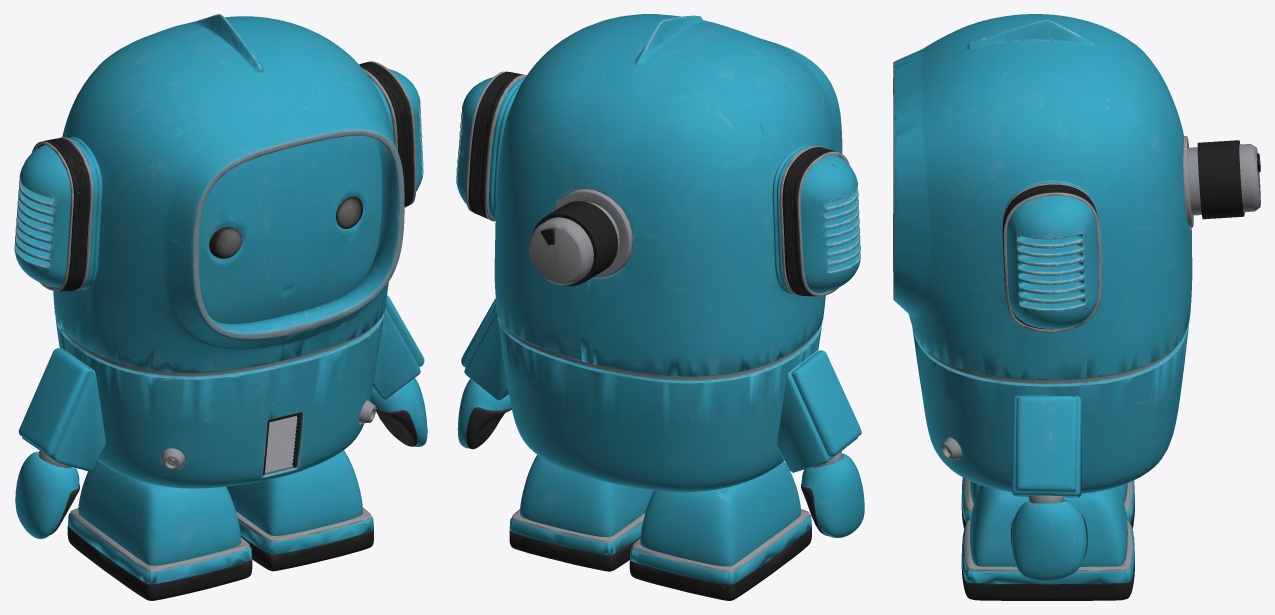
The model's file is cscene.glb.
3 renders of one model, left to right at view 1: azimuth 30°, elevation 25°; view 2: azimuth 150°, elevation 25°; view 3: azimuth 270°, elevation 25°, orthographic.
Parts seen in each view (by area): view 1: defaultMaterial; view 2: defaultMaterial; view 3: defaultMaterial.
Boxes of the visible parts, bbox=[...] form: defaultMaterial: bbox=[14, 14, 427, 600]; defaultMaterial: bbox=[456, 14, 864, 600]; defaultMaterial: bbox=[893, 14, 1260, 600].
Bounding box in the file's own units: 11.93 × 15.26 × 9.64.
Materials: 2 (1 with a texture image).
